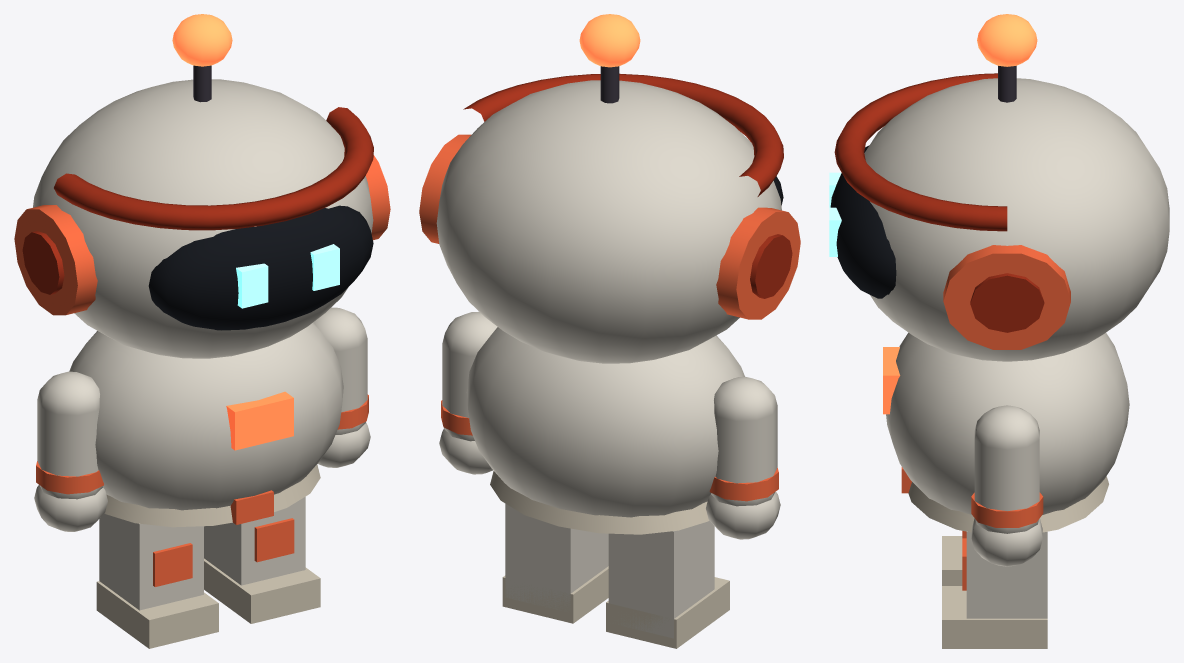
The model's file is portlet.glb.
The picture shows the model from 3 angles, left to right: view 1: azimuth 30°, elevation 25°; view 2: azimuth 150°, elevation 25°; view 3: azimuth 270°, elevation 25°; orthographic projection.
Parts seen in each view (by area): view 1: dome, torso, visor, band, legLShell, armLUpper, earLDisc, legRShell, legLFoot, legRFoot, armRUpper, belt (+14 smaller); view 2: dome, torso, legLShell, legRShell, armLUpper, band, earLDisc, belt, legLFoot, armRUpper, legRFoot, antennaBobble (+7 smaller); view 3: dome, torso, band, earRDisc, armRUpper, legRShell, visor, legRFoot, earRRing, belt, antennaBobble, armRHand (+4 smaller).
Part boxes in pixels (<box>): dome: <box>33,79,373,358</box>; torso: <box>69,322,343,510</box>; visor: <box>148,205,373,330</box>; band: <box>54,107,373,230</box>; legLShell: <box>99,513,203,610</box>; armLUpper: <box>37,371,102,499</box>; earLDisc: <box>14,205,97,315</box>; legRShell: <box>204,496,305,585</box>; legLFoot: <box>96,581,218,648</box>; legRFoot: <box>204,558,320,623</box>; armRUpper: <box>313,307,367,434</box>; belt: <box>104,464,320,527</box>; dome: <box>436,80,781,363</box>; torso: <box>466,327,744,517</box>; legLShell: <box>608,520,714,638</box>; legRShell: <box>505,503,608,611</box>; armLUpper: <box>711,377,777,506</box>; band: <box>463,73,783,196</box>; earLDisc: <box>716,207,800,319</box>; belt: <box>490,471,709,534</box>; legLFoot: <box>606,577,729,648</box>; armRUpper: <box>442,311,497,441</box>; legRFoot: <box>502,566,608,623</box>; antennaBobble: <box>579,14,640,67</box>; dome: <box>864,78,1169,361</box>; torso: <box>886,332,1129,514</box>; band: <box>834,73,1007,231</box>; earRDisc: <box>943,245,1070,349</box>; armRUpper: <box>974,405,1039,533</box>; legRShell: <box>966,531,1047,618</box>; visor: <box>830,145,896,298</box>; legRFoot: <box>942,586,1047,648</box>; earRRing: <box>970,273,1044,332</box>; belt: <box>908,476,1108,532</box>; antennaBobble: <box>977,14,1037,66</box>; armRHand: <box>971,518,1042,566</box>.
Size of the model in its own units: 0.671 by 1.15 by 0.6022.
